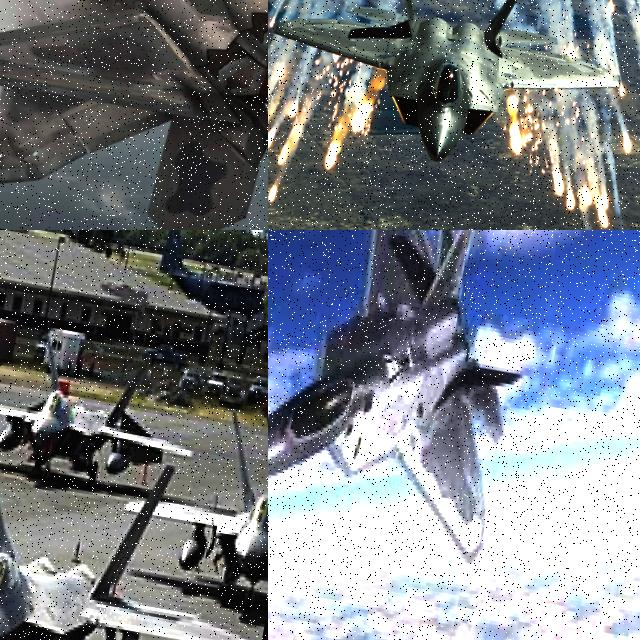F22: (268, 230, 553, 555), (268, 0, 639, 187), (0, 0, 268, 230), (0, 419, 268, 640), (0, 314, 202, 497), (109, 398, 268, 605)
